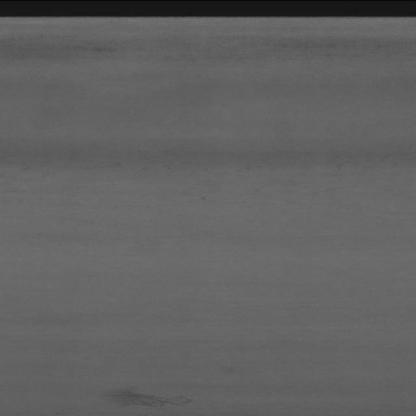water_spot: (83, 376, 197, 409)
